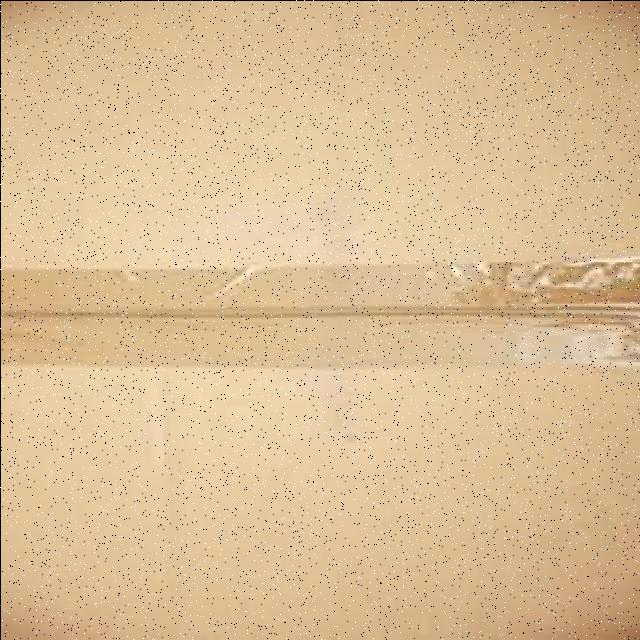normal: (3, 4, 639, 598)
